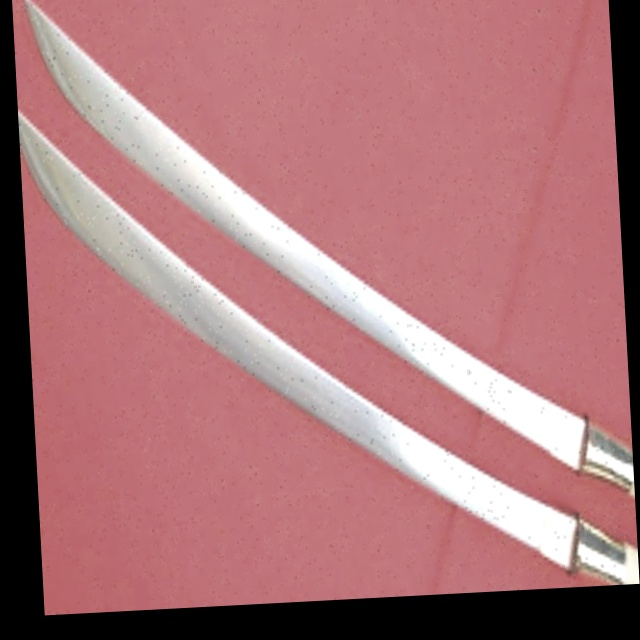Sharp-Object: (11, 0, 626, 533), (18, 88, 610, 610)
